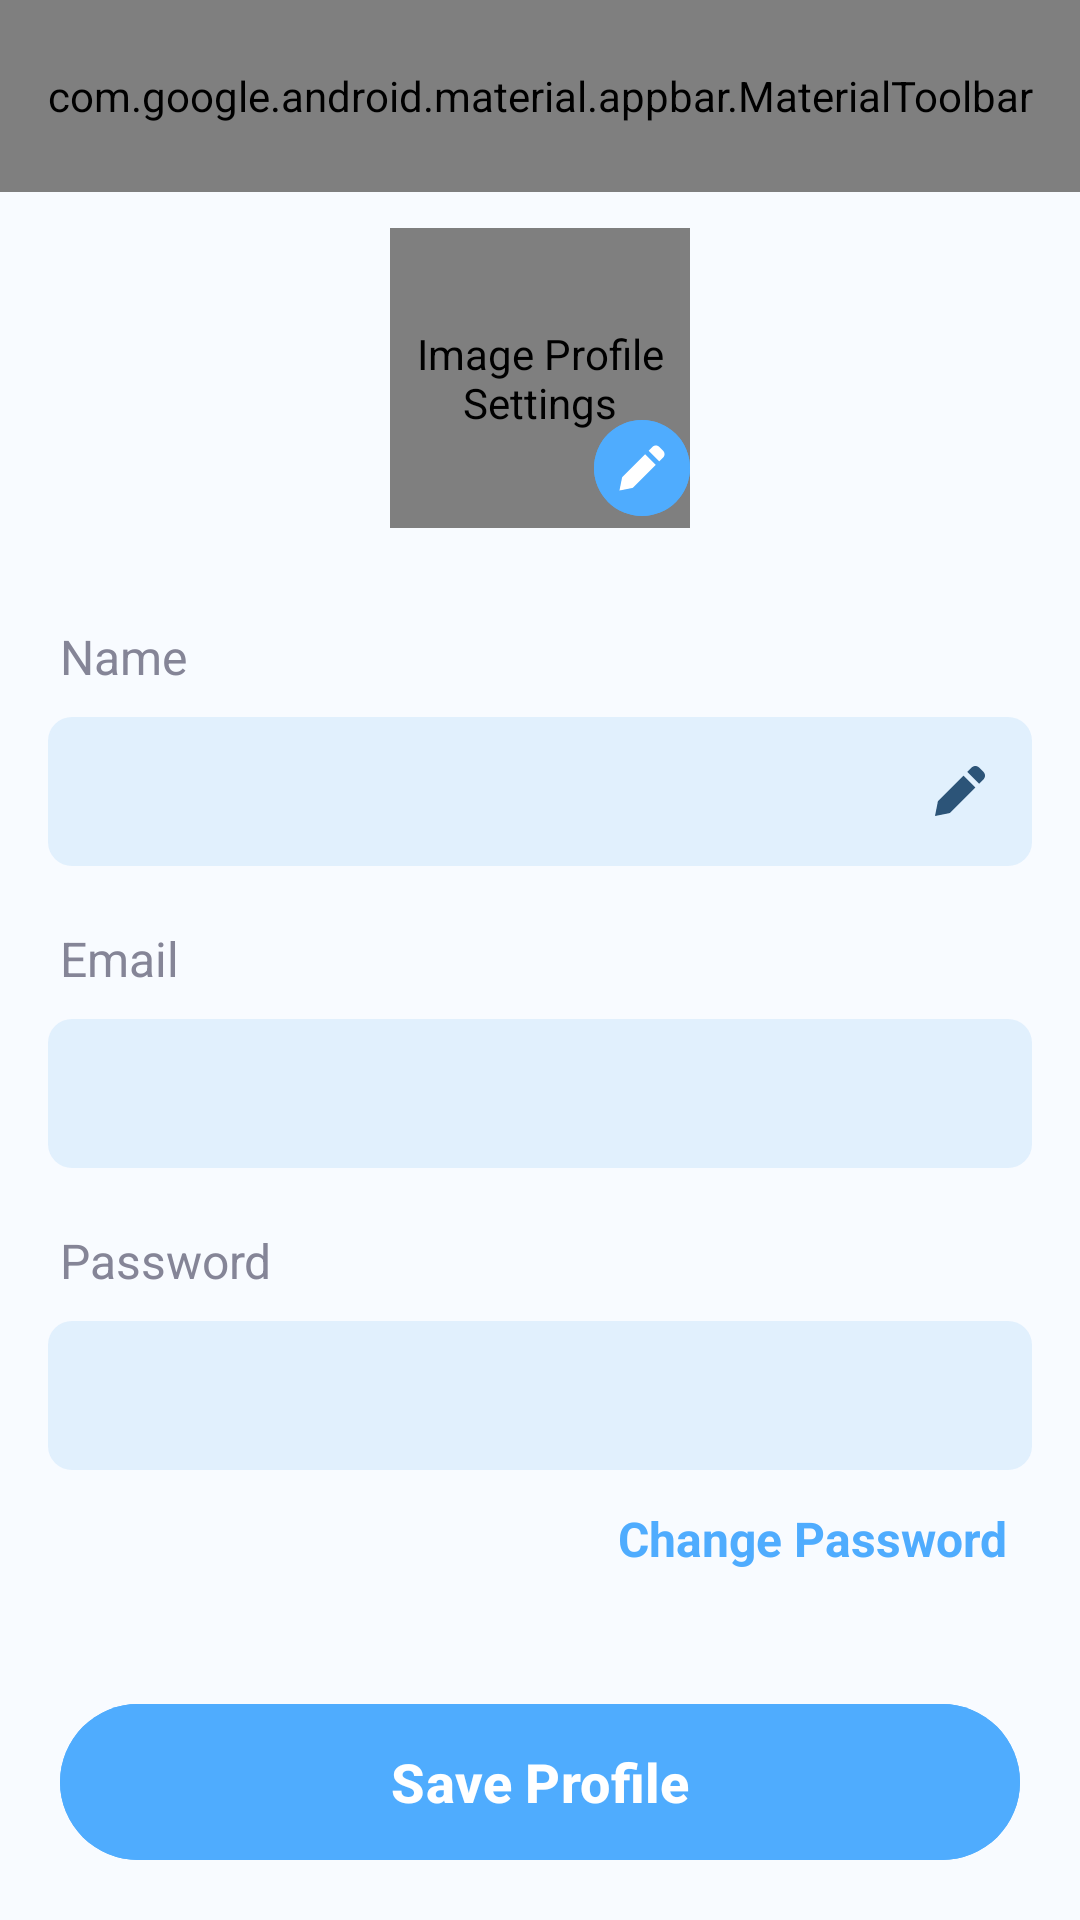

Icons on this 1080 × 1920 Android screen, each with the point to tap as (x,y):
edit: (642,468)
